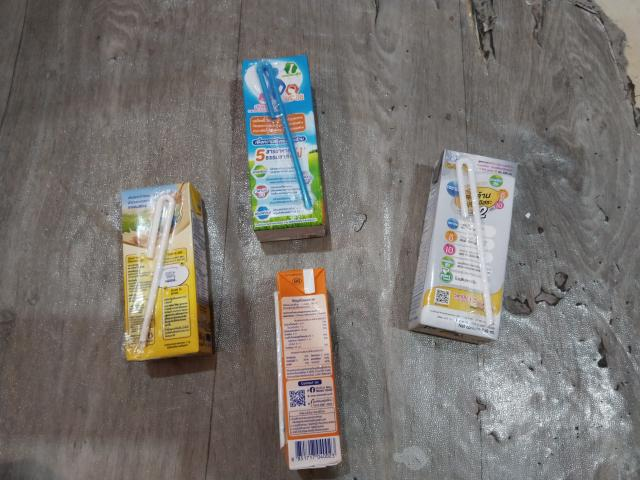drink_box: (422, 151, 516, 340), (238, 55, 330, 240), (115, 186, 212, 357), (269, 264, 346, 479)
